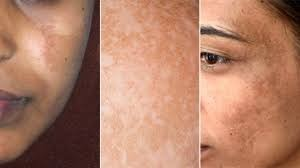Melasma: (102, 0, 200, 168), (232, 10, 285, 150)
